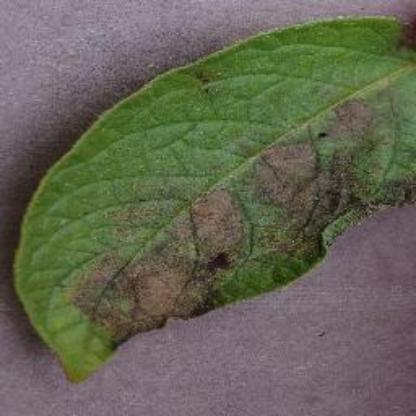Late-Blight: (8, 9, 416, 368)
